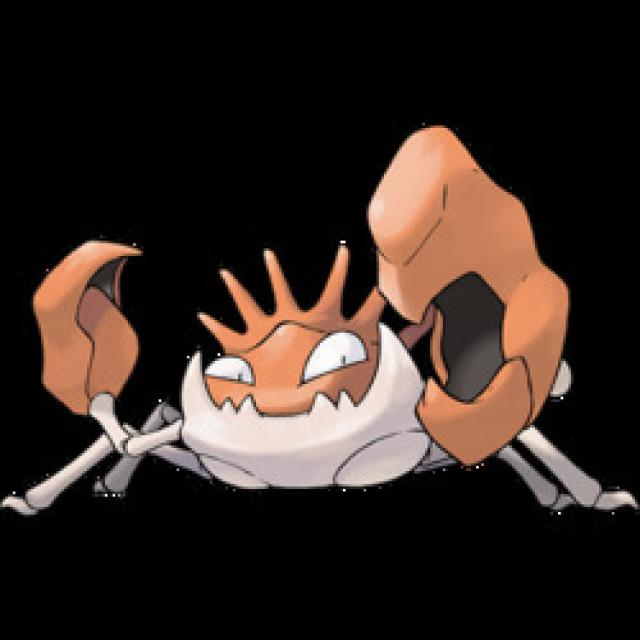Kingler: (2, 118, 640, 549)
